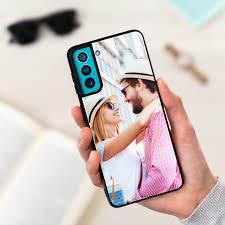Hand: (70, 79, 217, 205)
Smartphone: (68, 40, 186, 198)
